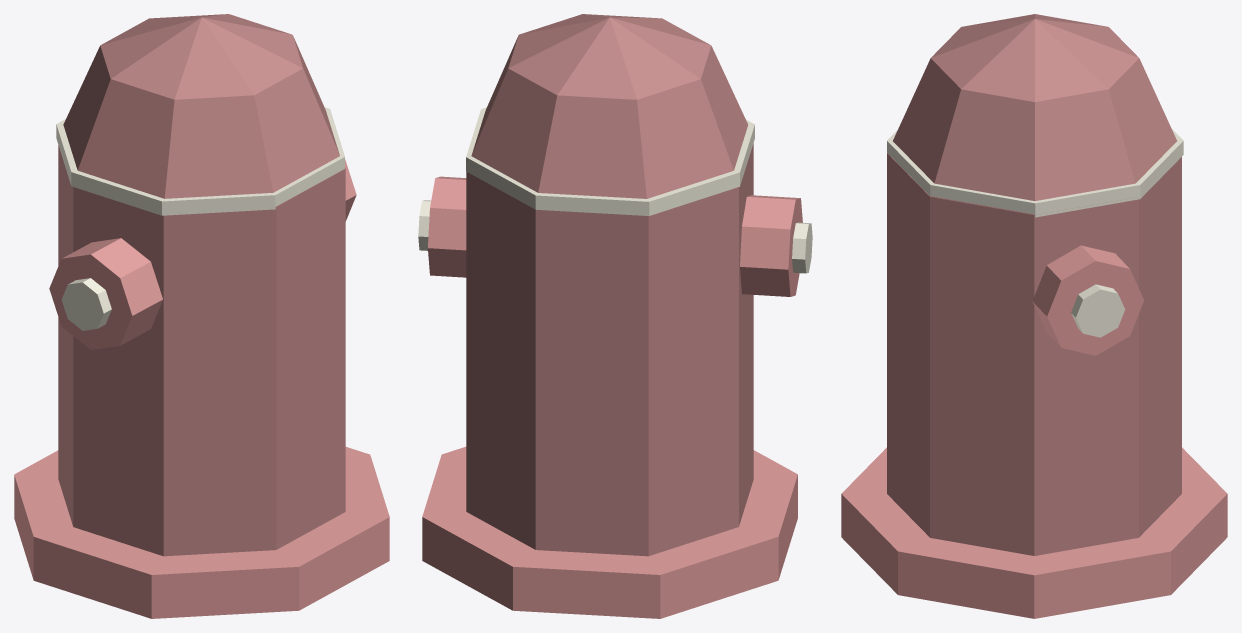
File: props15.fbx
3 views of the same model, side by side, from view 1: azimuth 30°, elevation 25°; view 2: azimuth 150°, elevation 25°; view 3: azimuth 270°, elevation 25° (orthographic).
Visible parts, largest first — view 1: Cylinder_1; view 2: Cylinder_1; view 3: Cylinder_1.
Boxes of the visible parts, x1=… form: Cylinder_1: x1=14, y1=14, x2=389, y2=618; Cylinder_1: x1=418, y1=14, x2=812, y2=618; Cylinder_1: x1=841, y1=14, x2=1227, y2=618.
Size of the model in its own units: 56.7 by 84.01 by 56.7.
